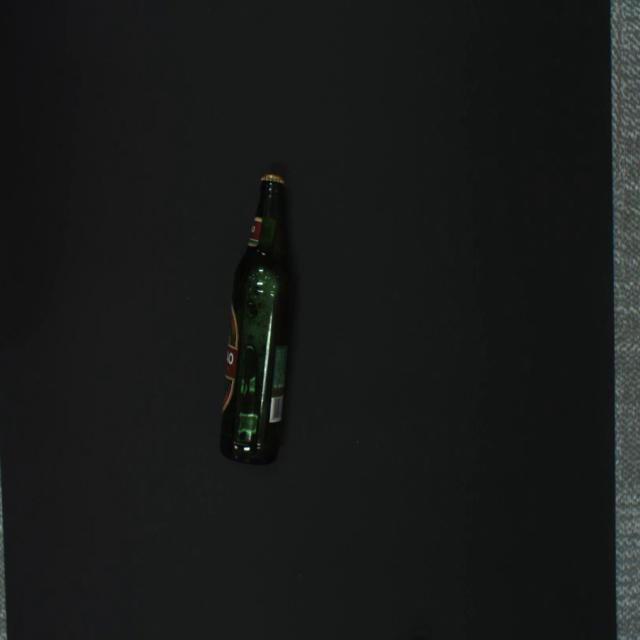beer-bottle: (219, 173, 294, 466)
